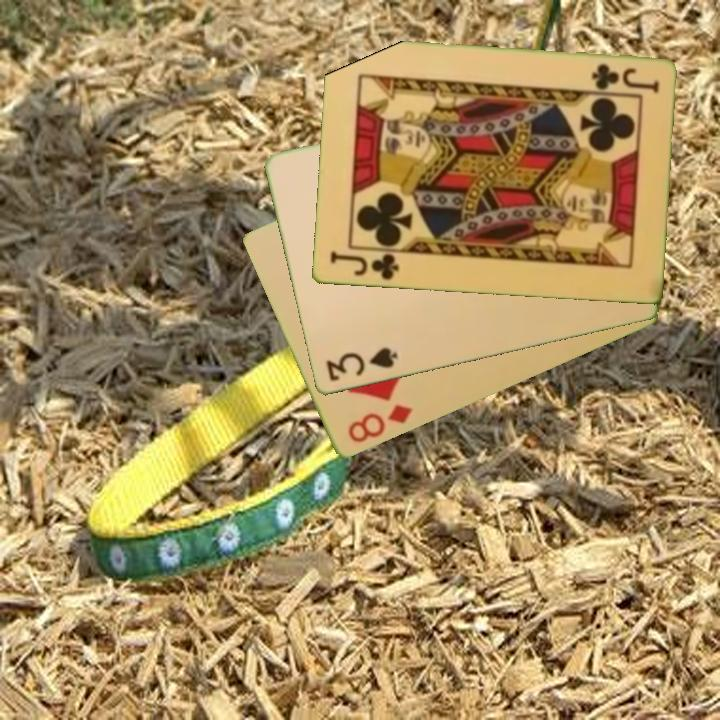3s: (322, 344, 400, 385)
8d: (344, 401, 416, 446)
Jc: (326, 248, 401, 284), (587, 60, 662, 95)
